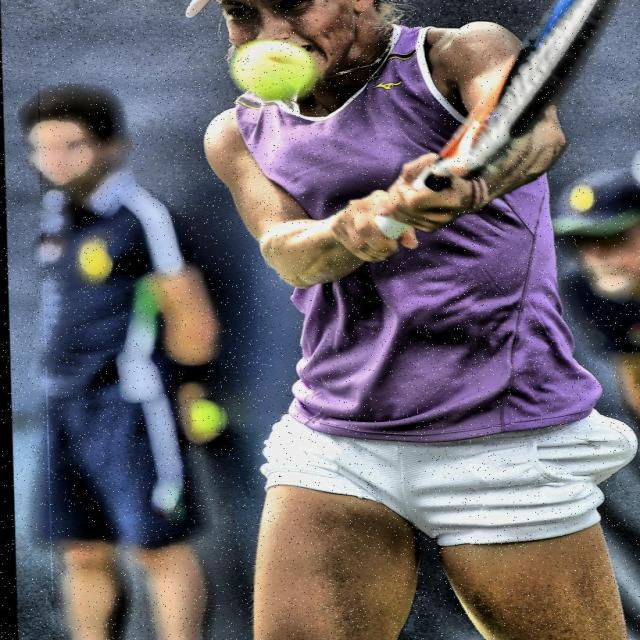tennis-ball: (228, 39, 322, 105), (188, 398, 222, 433)
